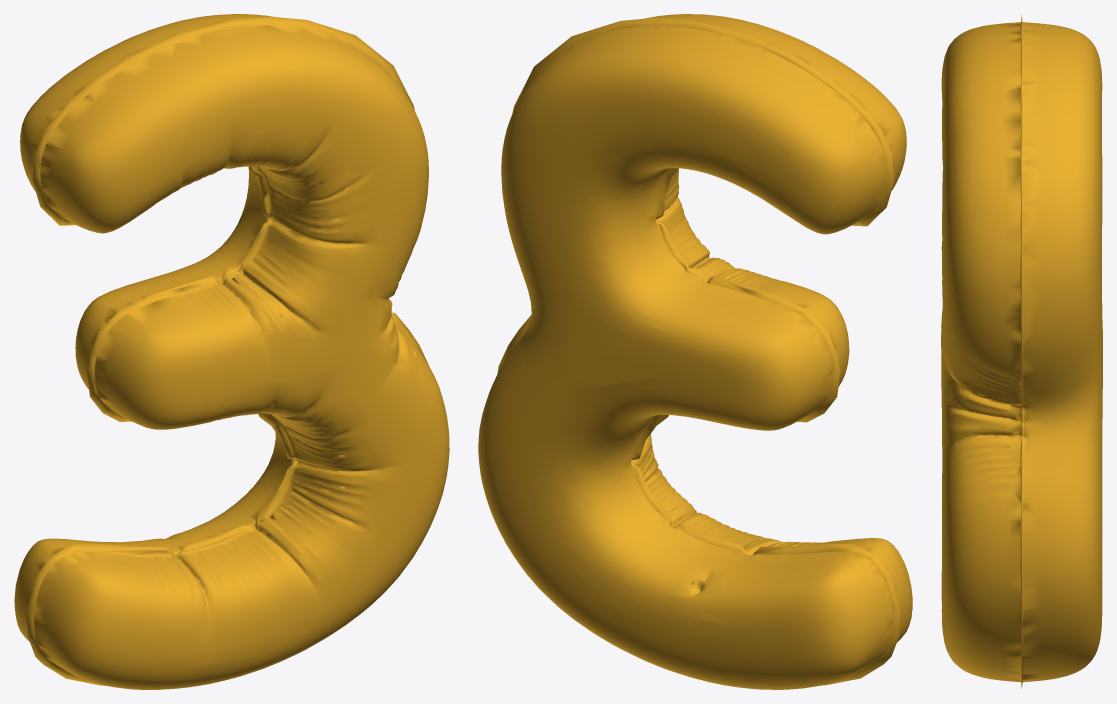
Rendered from zahlen-gold-nr3-gruppe.glb.
3 views of the same model, side by side, from view 1: azimuth 30°, elevation 25°; view 2: azimuth 150°, elevation 25°; view 3: azimuth 270°, elevation 25° (orthographic). The views are drawn at different scales.
Parts seen in each view (by area): view 1: nr3; view 2: nr3; view 3: nr3.
Part boxes in pixels (x1,y1,x2,y2): nr3: [14, 14, 449, 689]; nr3: [478, 14, 912, 689]; nr3: [941, 14, 1102, 689].
Bounding box in the file's own units: 0.4215 × 0.634 × 0.1498.
